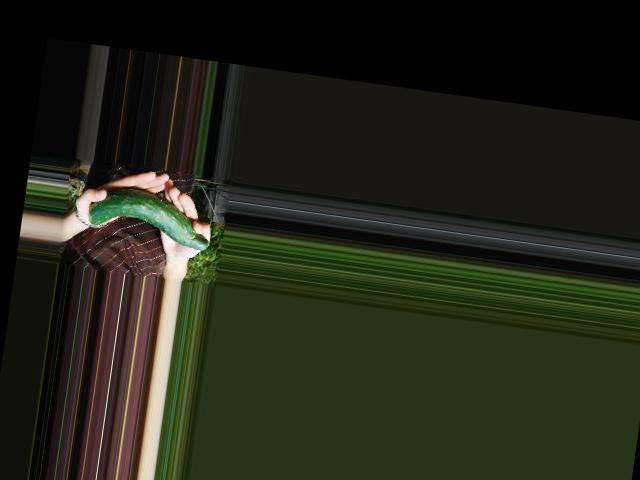cucumber: (85, 183, 214, 250)
